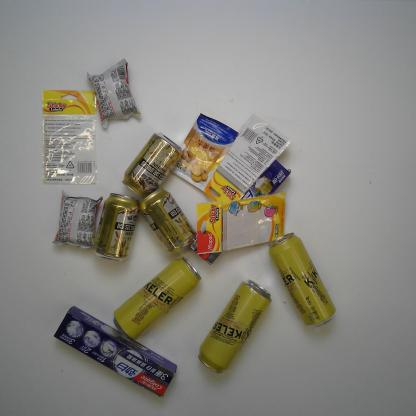Alcohol: (112, 256, 202, 342), (198, 278, 272, 374), (267, 232, 337, 327), (122, 132, 184, 197), (138, 187, 195, 255), (94, 192, 138, 262)
Dessert: (85, 58, 141, 128), (50, 190, 104, 249)
Personal Hygiene: (53, 304, 177, 398), (190, 160, 292, 264)
Seasoner: (172, 112, 239, 192)
Stationery: (204, 113, 292, 202), (196, 192, 287, 256), (42, 90, 97, 185)
